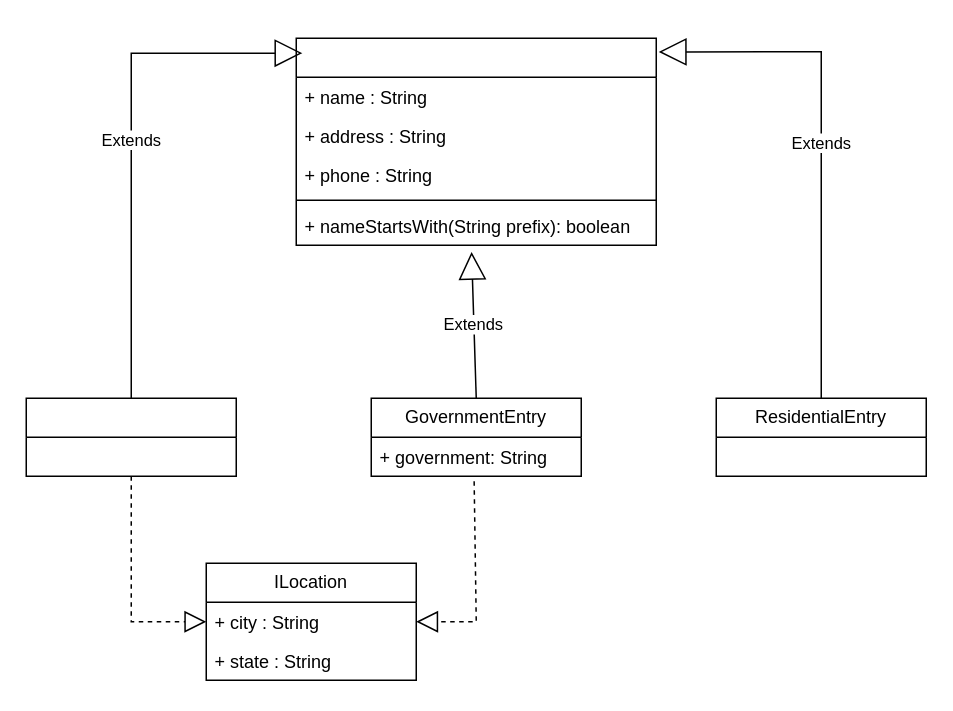
Image size: 953x711. Some labels were removed from this diagram. The shapes that lost their labels are listed below. From the top down, each one's box as (x1, y1, x2, y2) in pixels, then its label:
(295, 37, 656, 245): CityEntry (A)
(25, 397, 236, 476): BusinessEntry
